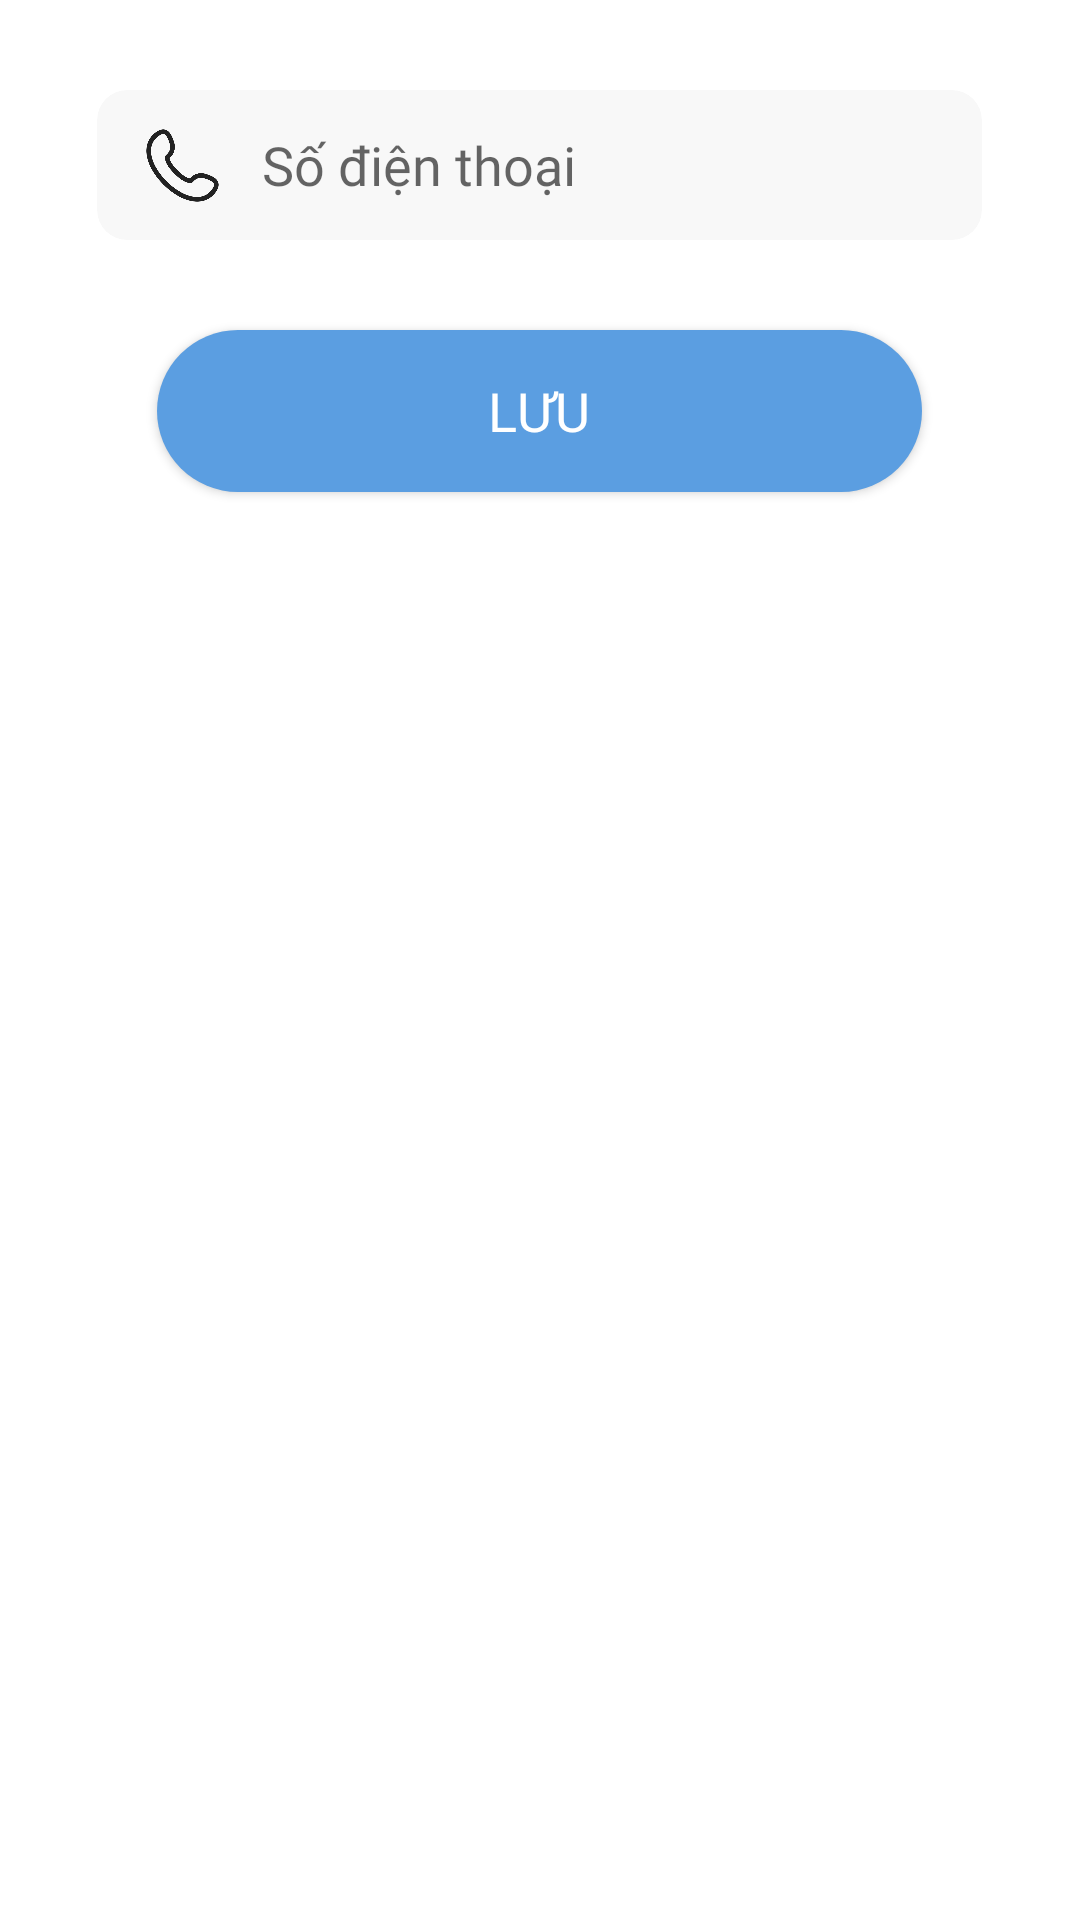

Icon bounding boxes for this 1080px×1920px phone screenshot, format detection(x1, y1, x2, y2):
telephone: detection(146, 129, 219, 202)
